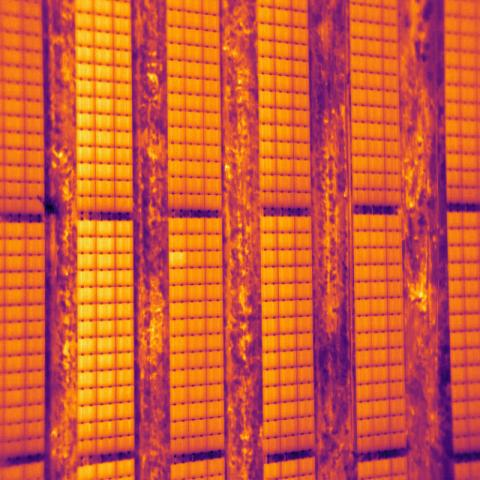fault: (169, 251, 188, 268)
